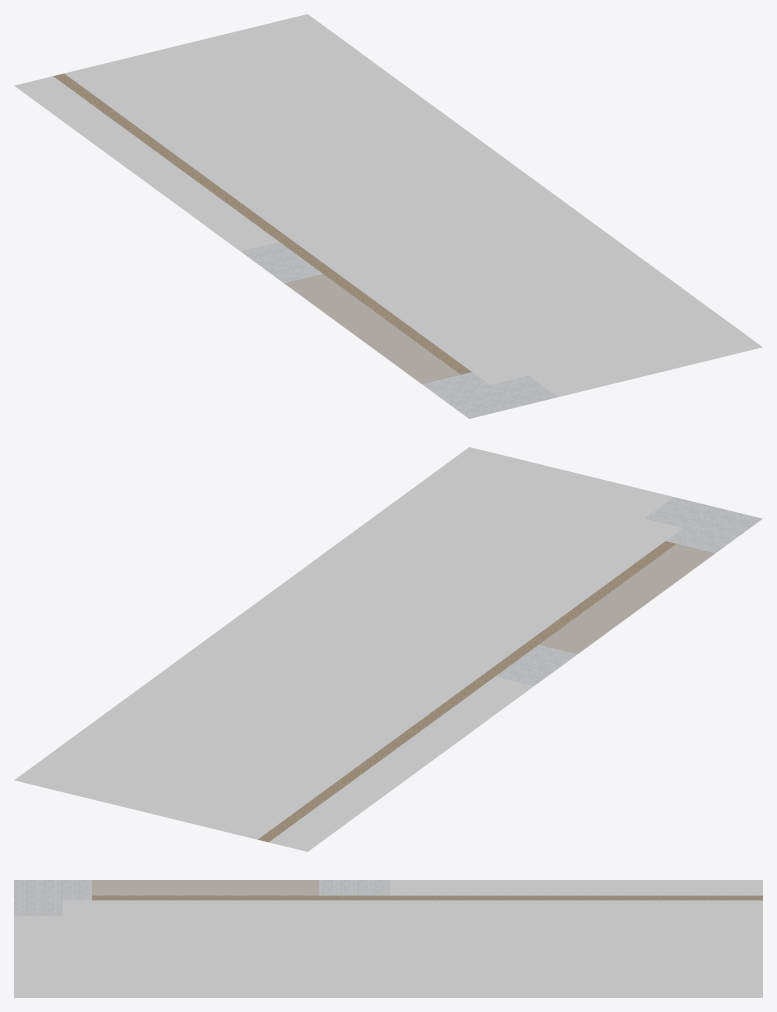
Rendered from LabaratoriumFloor.fbx.
3 views of the same model, one above another, from view 1: azimuth 30°, elevation 25°; view 2: azimuth 150°, elevation 25°; view 3: azimuth 270°, elevation 25° (orthographic). The views are drawn at different scales.
Visible parts, largest first — view 1: Plane; view 2: Plane; view 3: Plane.
Part boxes in pixels (x1,y1,x2,y2): Plane: [14, 14, 762, 418]; Plane: [14, 447, 762, 851]; Plane: [14, 880, 762, 997].
Size of the model in its own units: 54 by 0 by 145.
